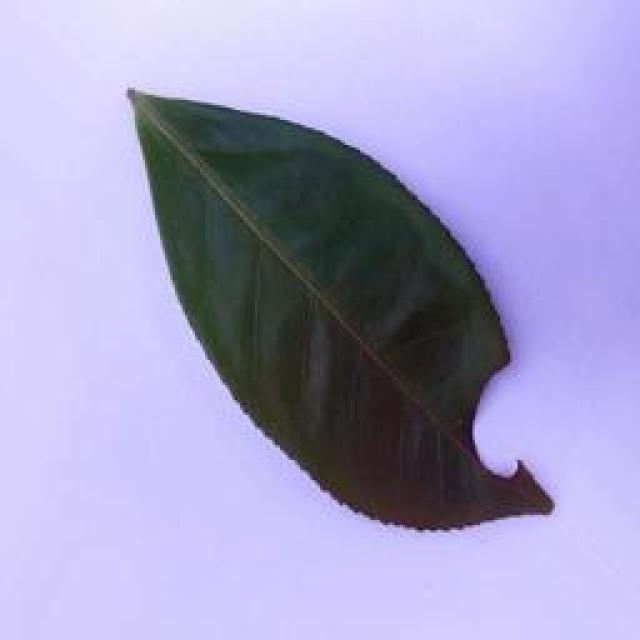Red Leaf Spot: (114, 85, 566, 559)
